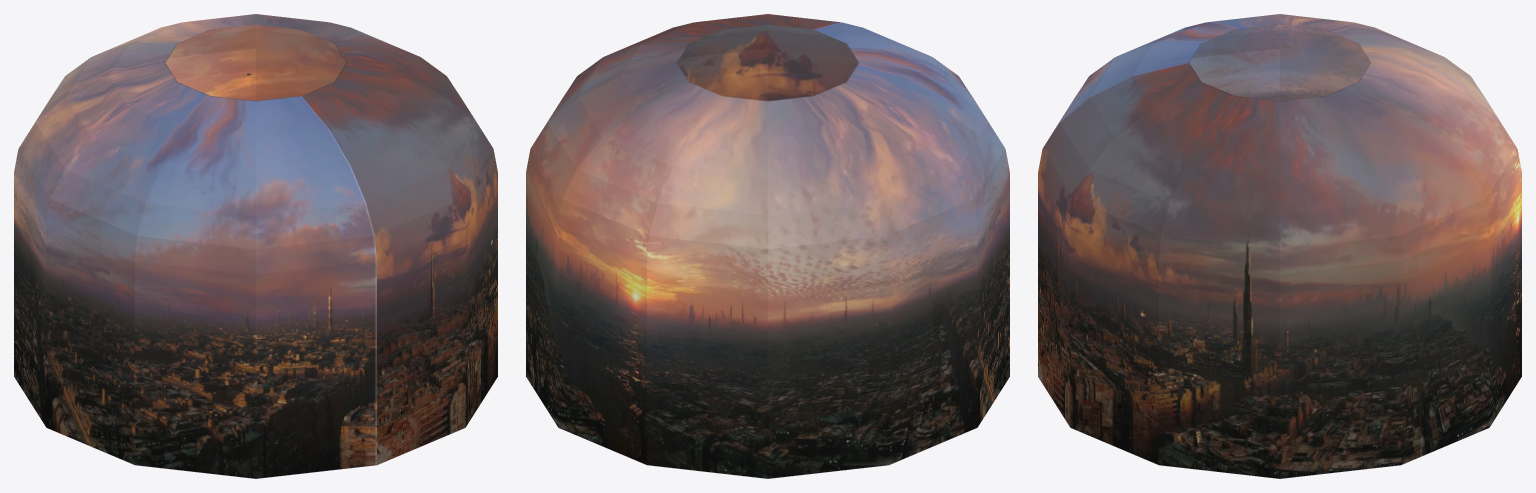
File: jedi_council_baked.glb
3 views of the same model, side by side, from view 1: azimuth 30°, elevation 25°; view 2: azimuth 150°, elevation 25°; view 3: azimuth 270°, elevation 25° (orthographic).
Visible parts, largest first — view 1: Background_7; view 2: Background_7; view 3: Background_7.
Part boxes in pixels (bbox=[...]): Background_7: bbox=[14, 14, 497, 478]; Background_7: bbox=[526, 14, 1009, 478]; Background_7: bbox=[1038, 14, 1521, 478].
Bounding box in the file's own units: 5890 × 4216 × 5890.
Materials: 6 (6 with a texture image).
